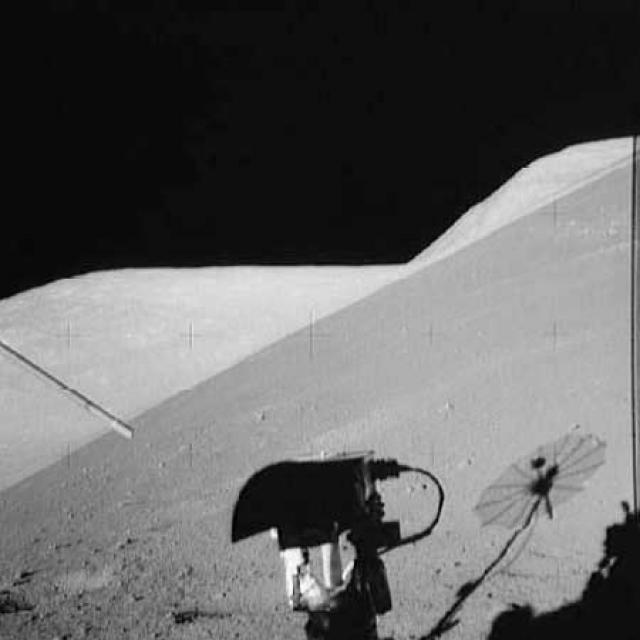artifact: (227, 445, 453, 639), (0, 338, 137, 442)
crater: (0, 560, 108, 618)
